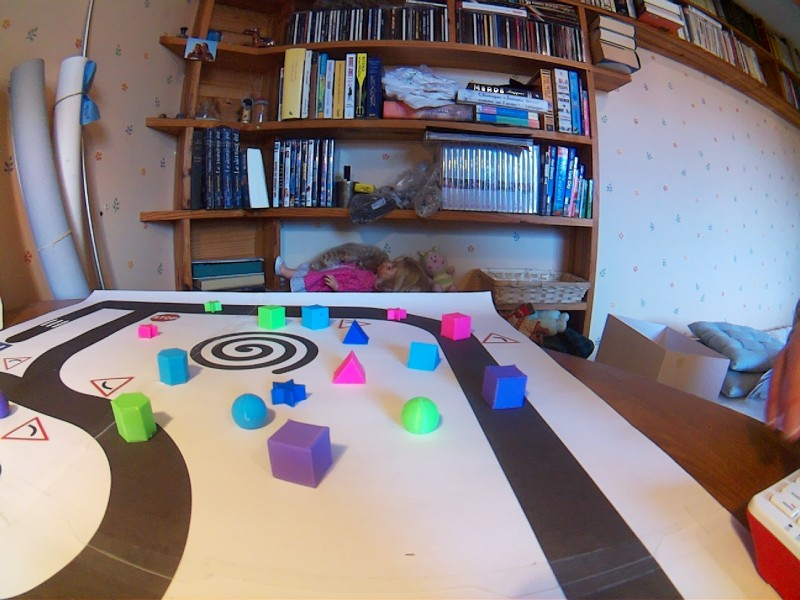ball: (399, 393, 444, 437), (227, 391, 270, 433)
cube: (265, 416, 336, 494), (479, 362, 531, 413), (436, 309, 475, 345), (256, 302, 287, 334), (299, 303, 333, 332)
hexagon: (107, 388, 163, 448), (156, 345, 190, 388)
star: (268, 376, 311, 411), (135, 321, 161, 342), (384, 304, 408, 325), (201, 297, 224, 315)
triangle: (331, 349, 371, 390), (403, 338, 442, 373), (341, 316, 376, 349)
